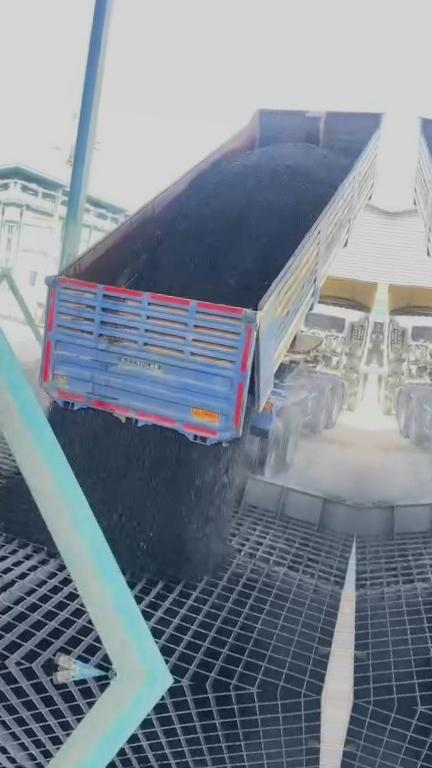gravel: (115, 144, 348, 306), (49, 404, 247, 580), (0, 474, 51, 547)
